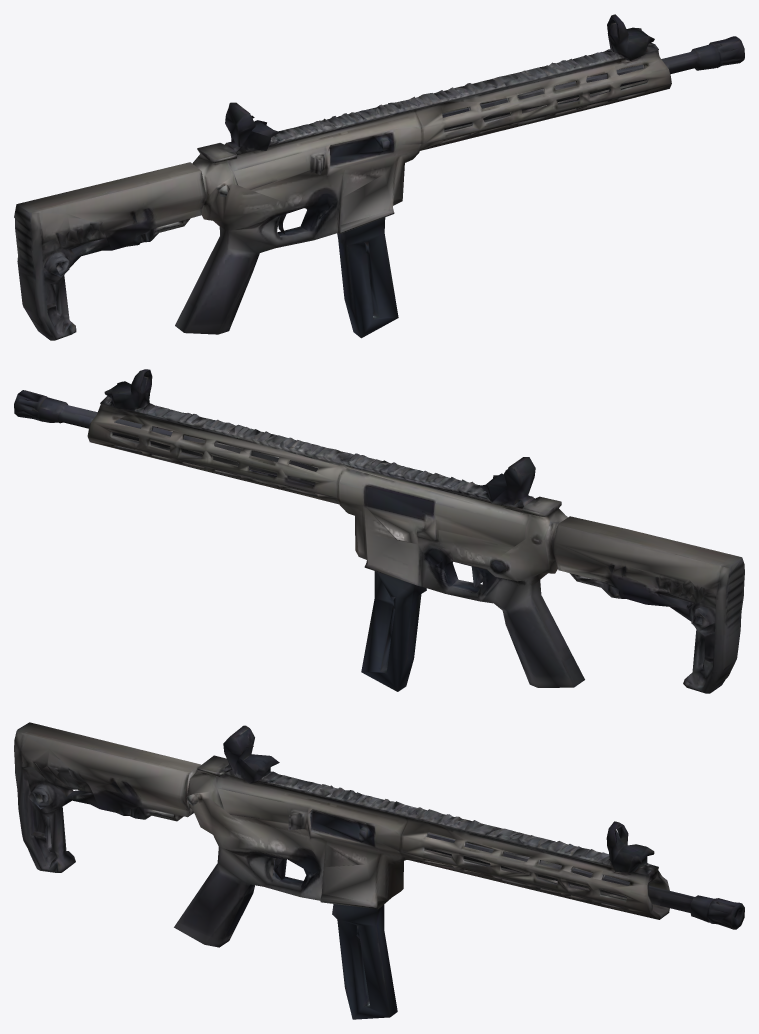
The model's file is rifle.glb.
3 renders of one model, top to bottom at view 1: azimuth 30°, elevation 25°; view 2: azimuth 150°, elevation 25°; view 3: azimuth 330°, elevation 25°, orthographic.
Visible parts, largest first — view 1: node_0; view 2: node_0; view 3: node_0.
Boxes of the visible parts, bbox=[...] form: node_0: bbox=[14, 14, 744, 340]; node_0: bbox=[14, 369, 744, 693]; node_0: bbox=[14, 722, 744, 1019].
Size of the model in its own units: 1.17 by 0.4012 by 0.0839.
Materials: 1 (1 with a texture image).
